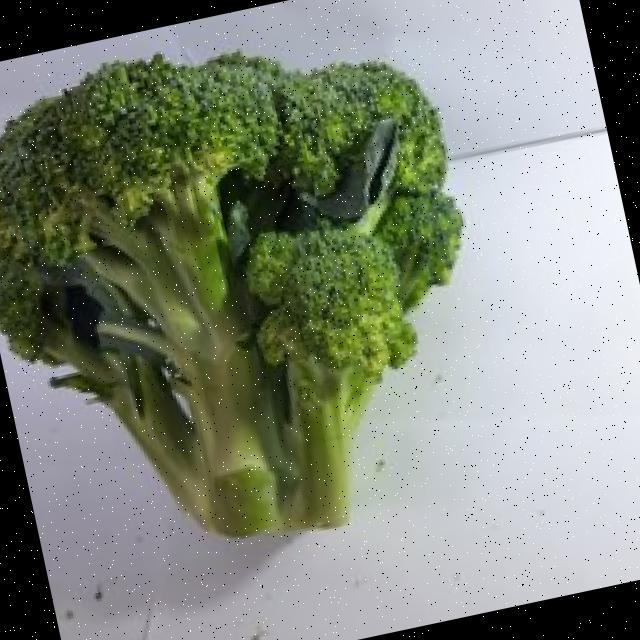Broccoli: (0, 52, 446, 323), (0, 53, 445, 310)
